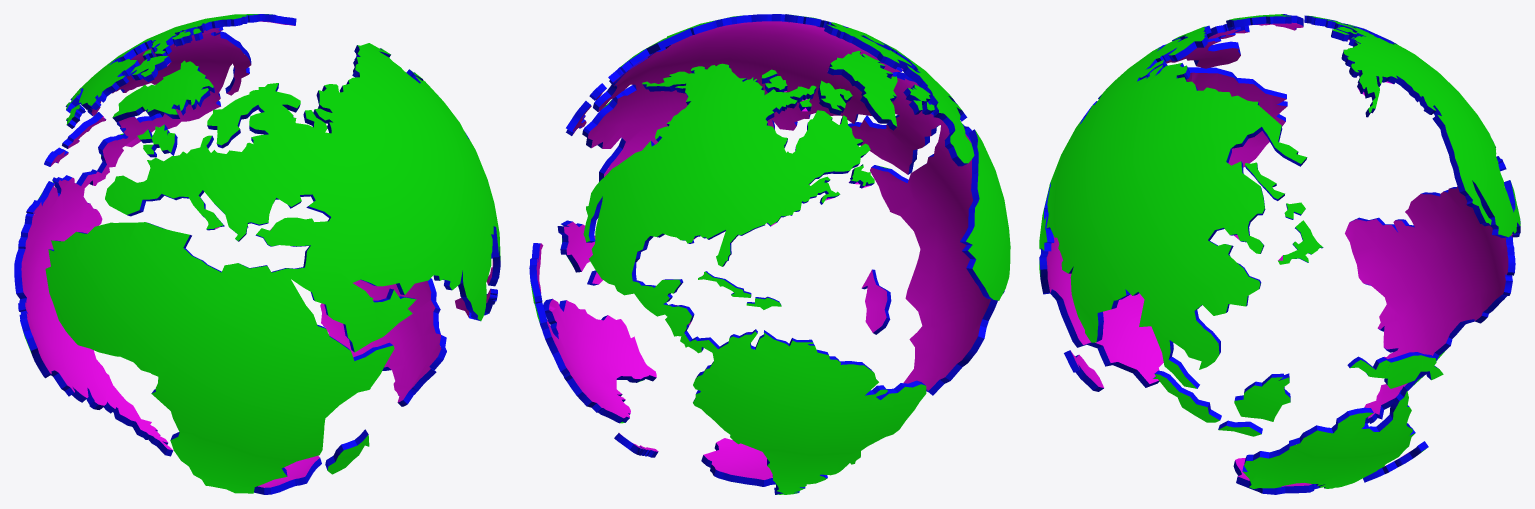
File: ErdeNeu.glb
The picture shows the model from 3 angles, left to right: view 1: azimuth 30°, elevation 25°; view 2: azimuth 150°, elevation 25°; view 3: azimuth 270°, elevation 25°; orthographic projection.
Parts seen in each view (by area): view 1: Group2, Group3, Group4; view 2: Group2, Group3, Group4; view 3: Group2, Group3, Group4.
Part boxes in pixels (box(x1,y1,x2,y2)): Group2: box(23, 14, 500, 493); Group3: box(21, 21, 493, 487); Group4: box(14, 14, 500, 494); Group2: box(530, 14, 1010, 494); Group3: box(536, 21, 990, 479); Group4: box(529, 14, 1004, 494); Group2: box(1039, 14, 1520, 488); Group3: box(1046, 22, 1512, 486); Group4: box(1039, 14, 1520, 494).
Size of the model in its own units: 2647 by 2611 by 2643.
